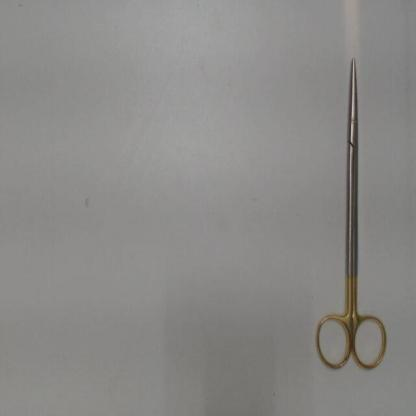7 Metzenbaum Scissors: (314, 58, 388, 373)
